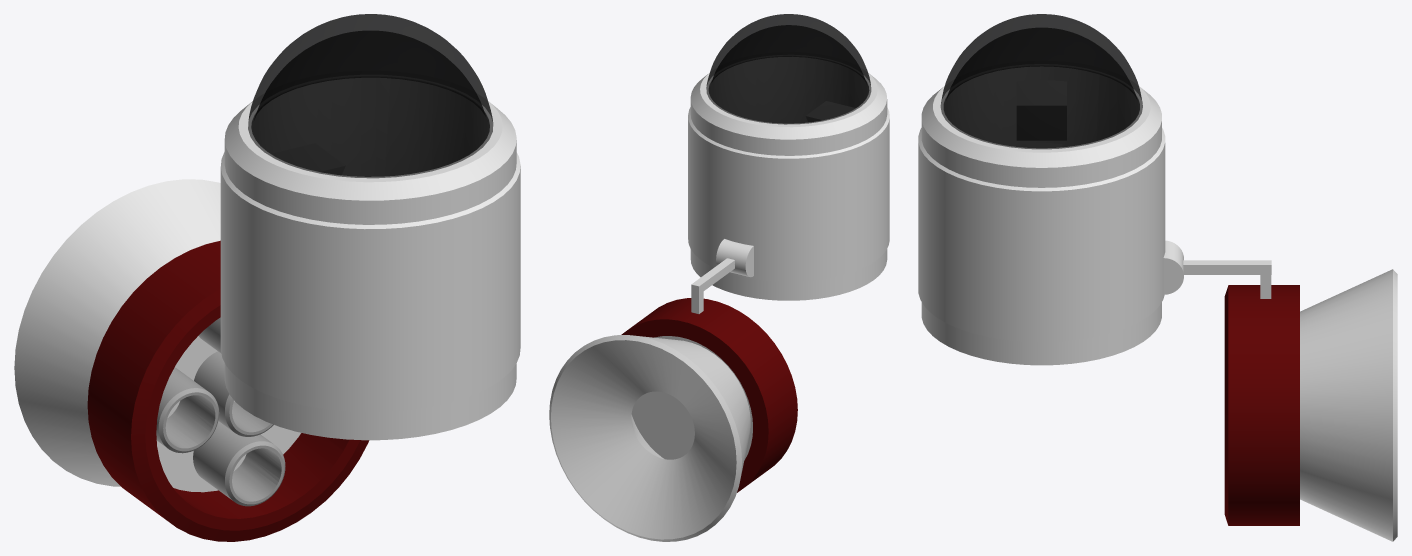
Rendered from escape_pod.fbx.
The picture shows the model from 3 angles, left to right: view 1: azimuth 30°, elevation 25°; view 2: azimuth 150°, elevation 25°; view 3: azimuth 270°, elevation 25°; orthographic projection. The views are drawn at different scales.
Parts seen in each view (by area): view 1: polySurface14, pCylinder4, pCylinder3, pSphere4, pCube4; view 2: polySurface14, pCylinder4, pCylinder3, pSphere4, pCylinder36, pCube2, pCube4; view 3: polySurface14, pCylinder4, pCylinder3, pSphere4, pCube4, pCube2, pCylinder36.
Part boxes in pixels (x1,y1,x2,y2): polySurface14: (14,179,369,541); pCylinder4: (220,152,520,411); pCylinder3: (224,78,516,440); pSphere4: (248,14,493,178); pCube4: (272,144,345,174); polySurface14: (549,298,797,541); pCylinder4: (688,107,889,281); pCylinder3: (690,57,887,300); pSphere4: (706,14,871,124); pCylinder36: (716,239,753,277); pCube2: (691,258,734,294); pCube4: (806,101,854,121); polySurface14: (1224,269,1397,541); pCylinder4: (918,128,1165,342); pCylinder3: (921,66,1161,365); pSphere4: (940,14,1142,149); pCube4: (1017,80,1066,139); pCube2: (1183,260,1271,274); pCylinder36: (1163,240,1183,294).
Size of the model in its own units: 2.38 by 4.86 by 4.18.
